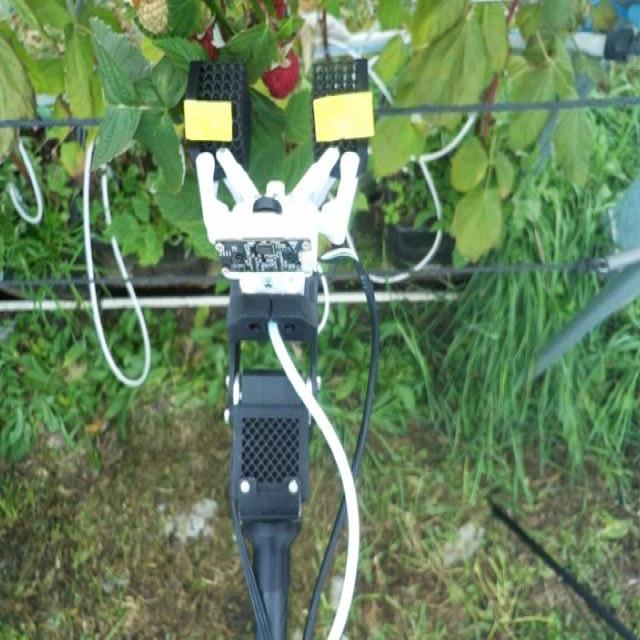Riped berries: (261, 44, 301, 100), (191, 24, 221, 65)
